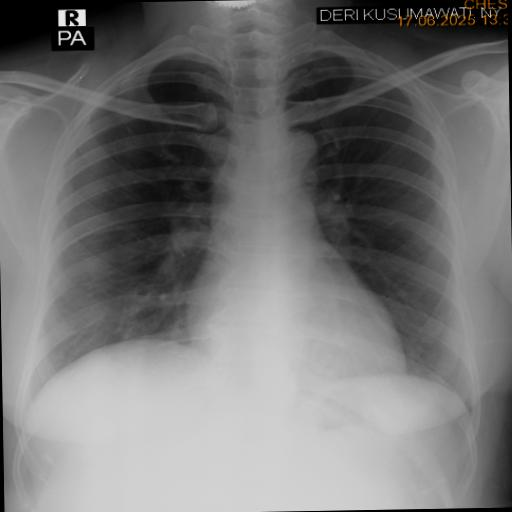kardiomegali: (14, 26, 484, 444)
